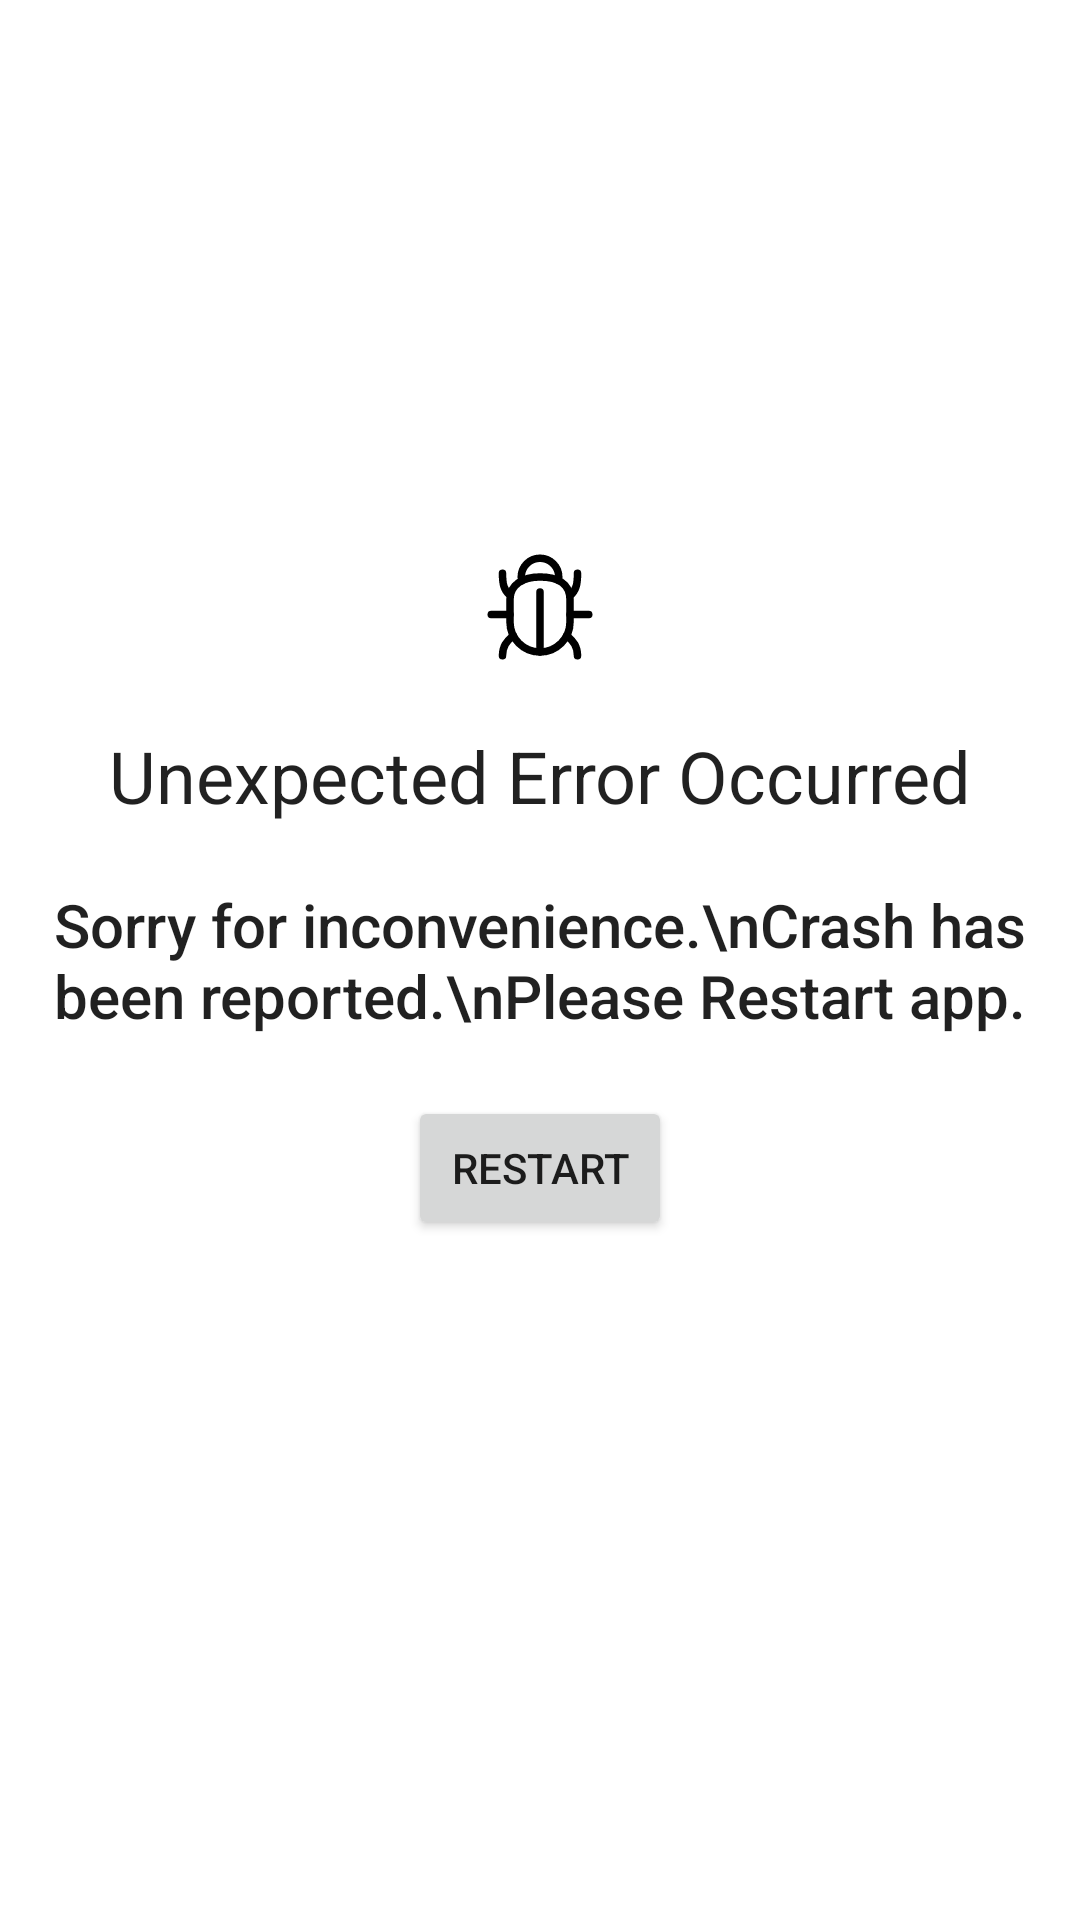

Screen size 1080x1920. Icon name, then its box in pixels as (x1, y1, x2, y2):
bug: (487, 554, 593, 660)
